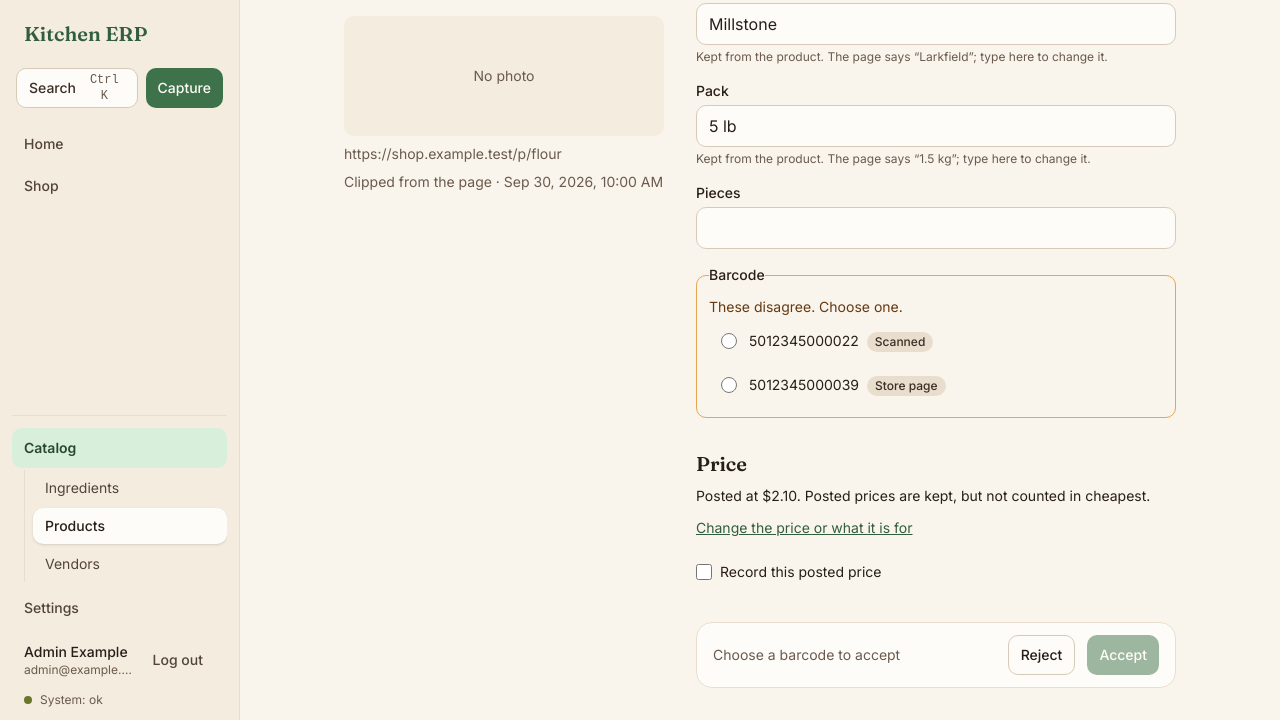
Test: product review › opens a barcode conflict with no default and blocks Accept until one is chosen
(page scrolled)
Expected: the text "These disagree. Choose one." is shown, [709, 298, 903, 315]
Expected: the text "Choose a barcode to accept" is shown, [713, 646, 900, 663]
Click the radio button labelled "5012345000039 Store page" at (729, 385), box [721, 377, 737, 393]
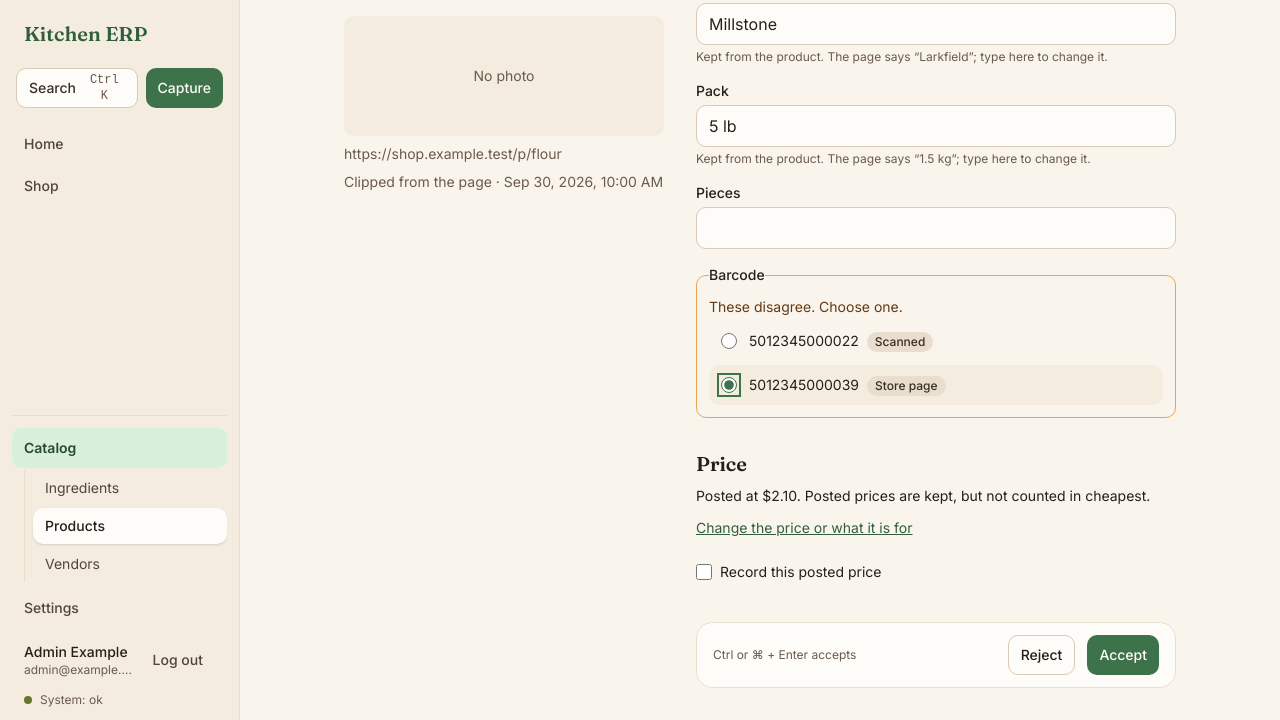
Expected: the button "Accept" is enabled, [1087, 635, 1159, 675]
